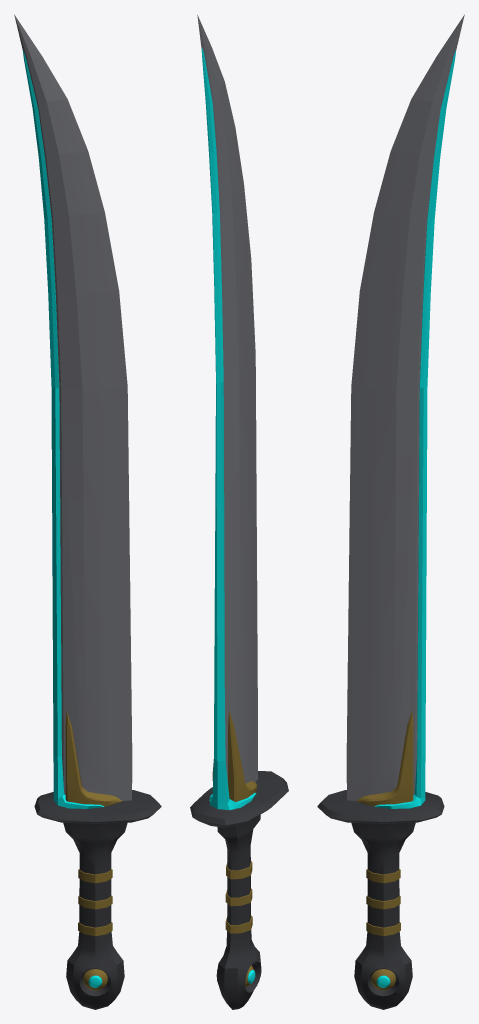
Rendered from Sword.fbx.
The picture shows the model from 3 angles, left to right: view 1: azimuth 90°, elevation 25°; view 2: azimuth 150°, elevation 25°; view 3: azimuth 270°, elevation 25°; orthographic projection. The views are drawn at different scales.
Visible parts, largest first — view 1: Sword, SpineGlow; view 2: Sword, SpineGlow; view 3: Sword, SpineGlow.
Boxes of the visible parts, <box> form: Sword: <box>14,14,161,1009</box>; SpineGlow: <box>22,50,104,808</box>; Sword: <box>190,15,288,1009</box>; SpineGlow: <box>201,48,256,810</box>; Sword: <box>317,14,464,1009</box>; SpineGlow: <box>374,50,456,808</box>.
Size of the model in its own units: 6.28 by 94.41 by 12.69.
